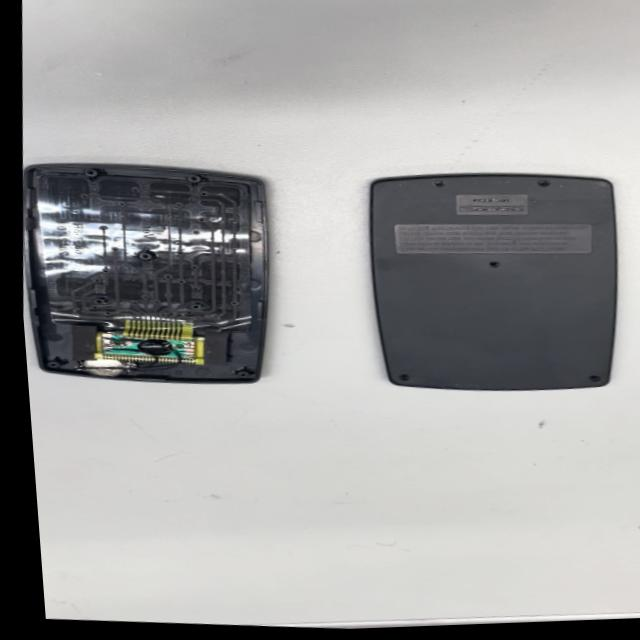back_cover: (340, 155, 640, 407)
front_panel: (12, 151, 294, 391)
